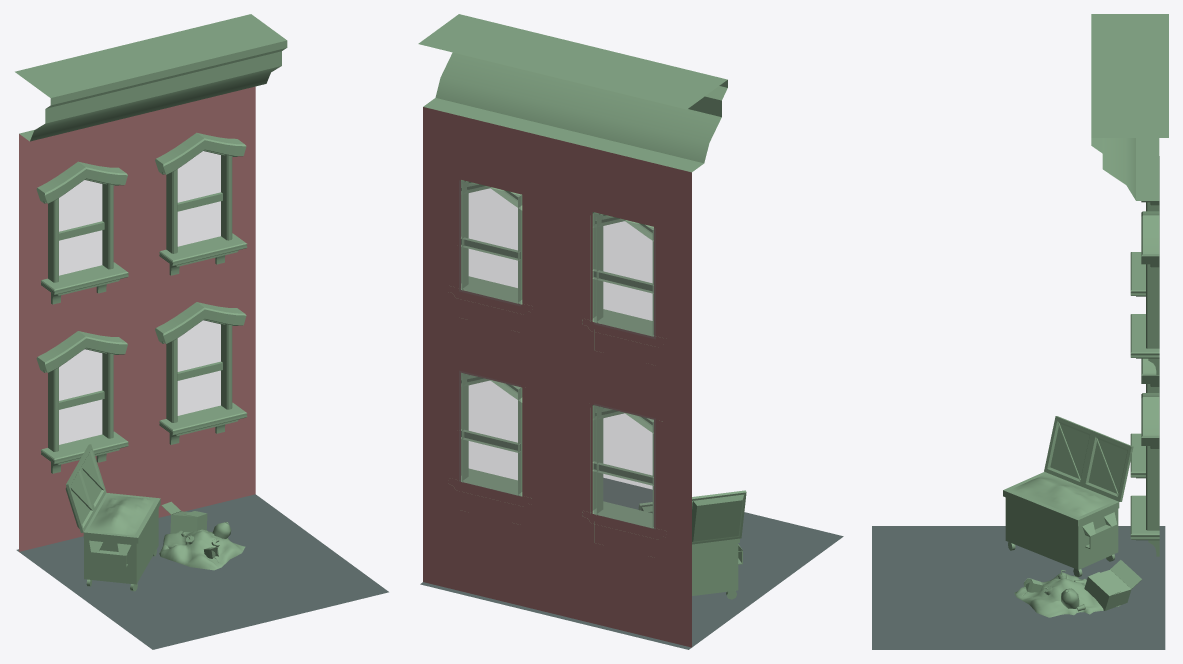
The model's file is Alleyway_Scene 1.fbx.
3 views of the same model, side by side, from view 1: azimuth 30°, elevation 25°; view 2: azimuth 150°, elevation 25°; view 3: azimuth 270°, elevation 25° (orthographic). The views are drawn at different scales.
Parts seen in each view (by area): view 1: SM_Wall, SM_Pavement, SM_Dumpster, SM_Rubbish, SM_Window_04, SM_Window_01, SM_Window_02, SM_Window_03; view 2: SM_Wall, SM_Pavement, SM_Window_01, SM_Window_03, SM_Window_02, SM_Window_04, SM_Dumpster; view 3: SM_Pavement, SM_Wall, SM_Dumpster, SM_Rubbish.
Boxes of the visible parts, <box> form: SM_Wall: <box>15,14,287,551</box>; SM_Pavement: <box>16,494,388,649</box>; SM_Dumpster: <box>65,444,160,591</box>; SM_Rubbish: <box>159,501,245,570</box>; SM_Window_04: <box>59,180,102,275</box>; SM_Window_01: <box>59,349,102,444</box>; SM_Window_02: <box>178,320,220,415</box>; SM_Window_03: <box>178,151,220,246</box>; SM_Wall: <box>418,14,727,647</box>; SM_Pavement: <box>420,477,843,649</box>; SM_Window_01: <box>594,404,655,529</box>; SM_Window_03: <box>459,180,520,305</box>; SM_Window_02: <box>459,371,520,496</box>; SM_Window_04: <box>594,213,655,338</box>; SM_Dumpster: <box>638,490,746,599</box>; SM_Pavement: <box>872,526,1165,649</box>; SM_Wall: <box>1091,14,1168,556</box>; SM_Dumpster: <box>1003,416,1133,576</box>; SM_Rubbish: <box>1014,560,1142,617</box>.
Size of the model in its own units: 5.21 by 10.09 by 5.26.
